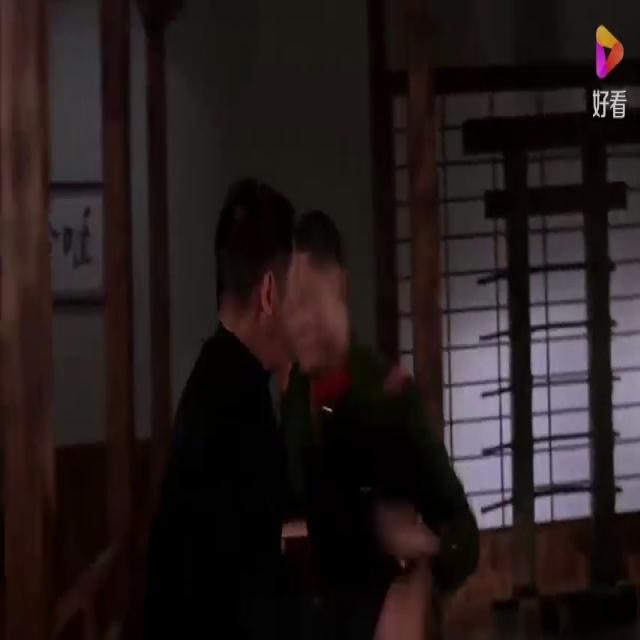fight: (105, 142, 490, 638)
